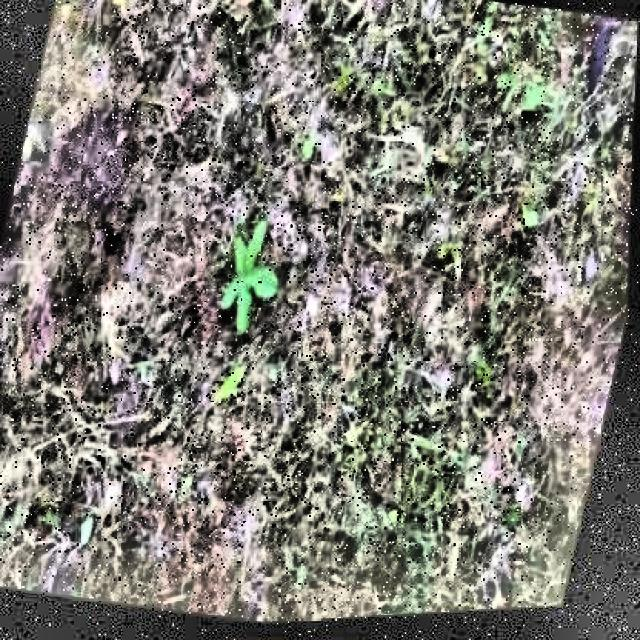Weeds: (208, 211, 295, 337)
